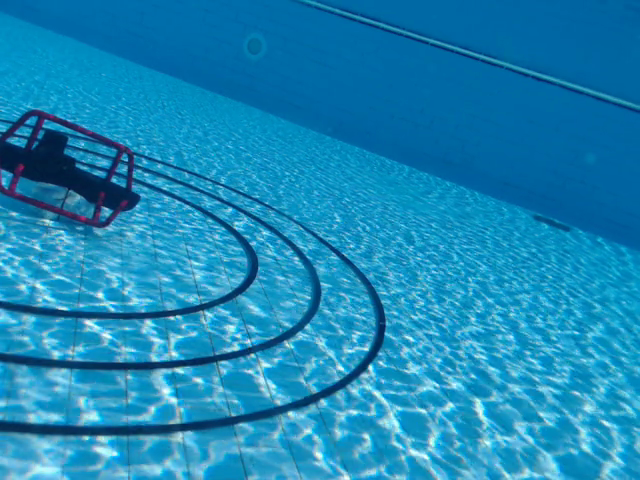submarine: (1, 108, 142, 230)
